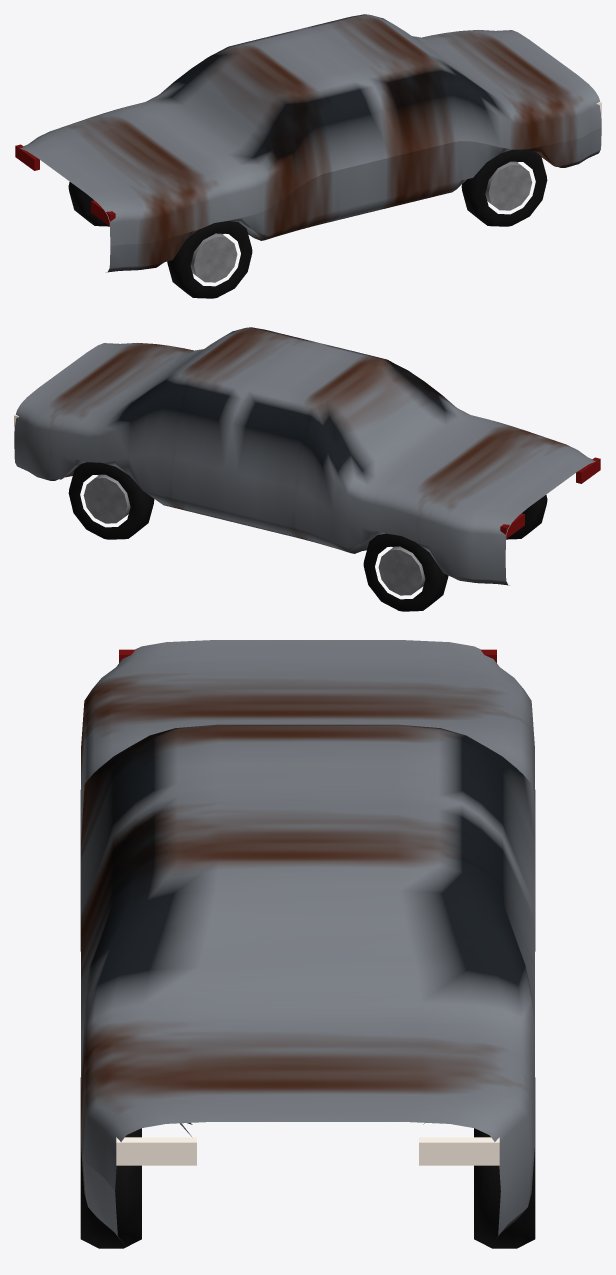
Rendered from car_L1.glb.
The picture shows the model from 3 angles, top to bottom: view 1: azimuth 30°, elevation 25°; view 2: azimuth 150°, elevation 25°; view 3: azimuth 270°, elevation 25°; orthographic projection. The views are drawn at different scales.
Parts seen in each view (by area): view 1: body, tire (×3), rim (×2); view 2: body, tire (×3), rim (×2); view 3: body, tire (×2), lamp (×2).
Boxes of the visible parts, <box> form: body: <box>20,14,601,272</box>; tire (×3): <box>68,149,547,298</box>; rim (×2): <box>190,161,532,282</box>; body: <box>14,327,595,585</box>; tire (×3): <box>68,462,547,611</box>; rim (×2): <box>83,474,425,595</box>; body: <box>81,640,534,1242</box>; tire (×2): <box>80,1077,535,1248</box>; lamp (×2): <box>116,1137,499,1165</box>.
Bounding box in the file's own units: 4.51 × 1.45 × 1.8.
Materials: 5 (3 with a texture image).
